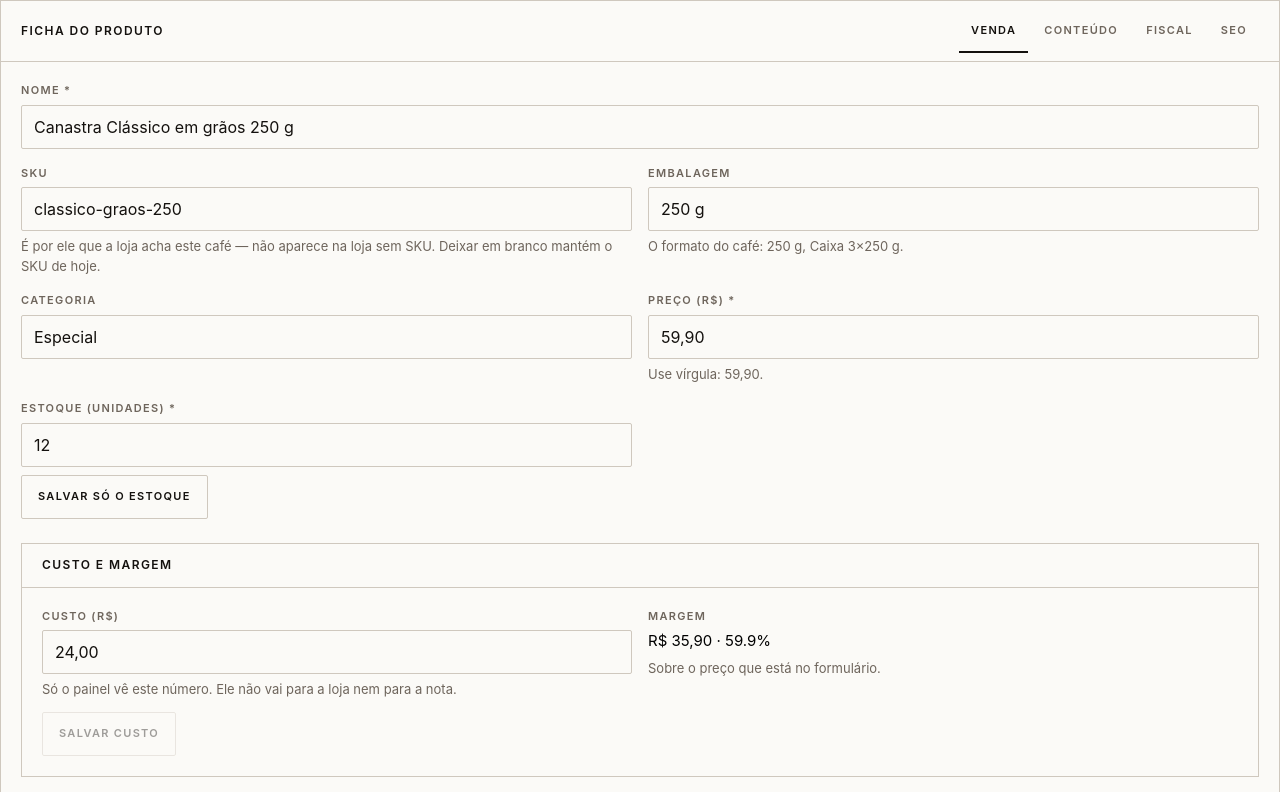
Scenario: as abas que dizem o que não conseguem fazer › a fiscal diz que os campos da NF-e ainda não têm rota
Click the tab "Fiscal" at (1169, 31), box 1134,9 -> 1205,53
(page scrolled)
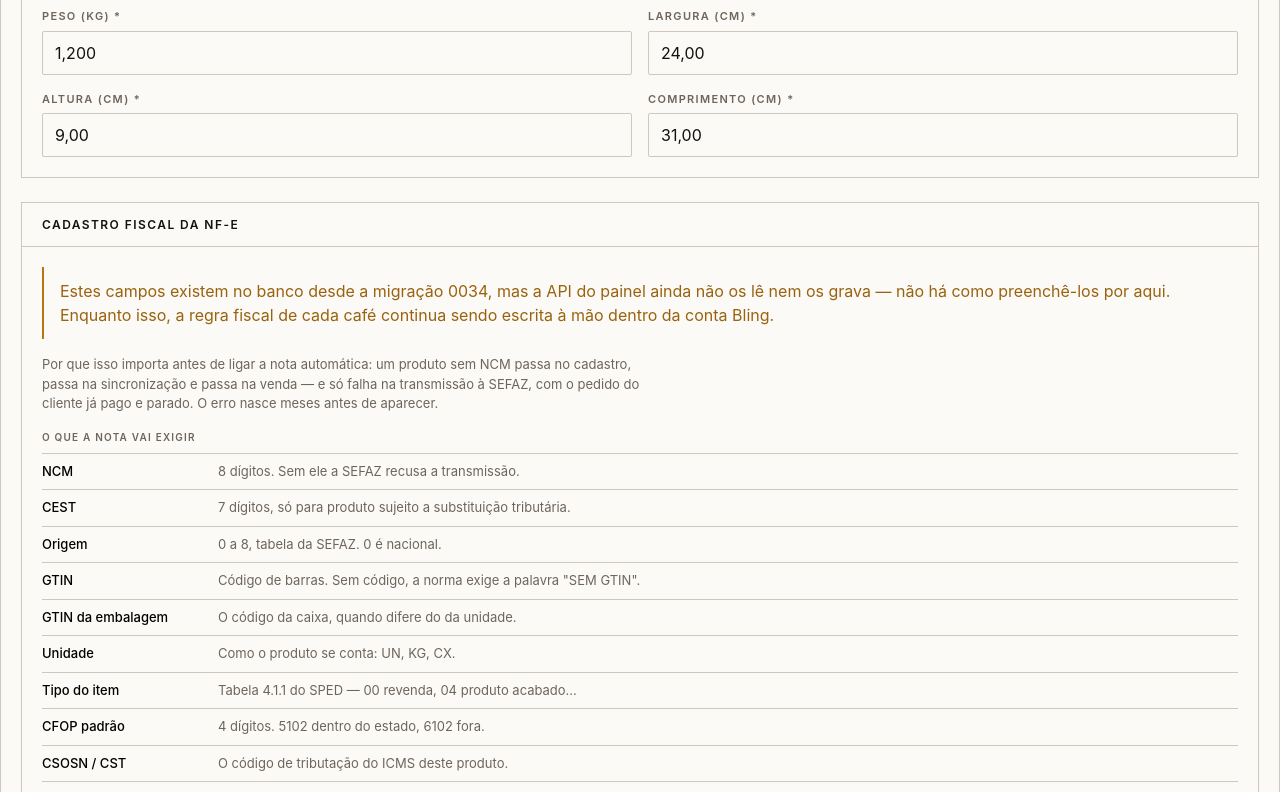
Expected: the panel shows "migração 0034", 60,281 -> 1170,325
Expected: the panel shows "NCM", 42,462 -> 73,478
